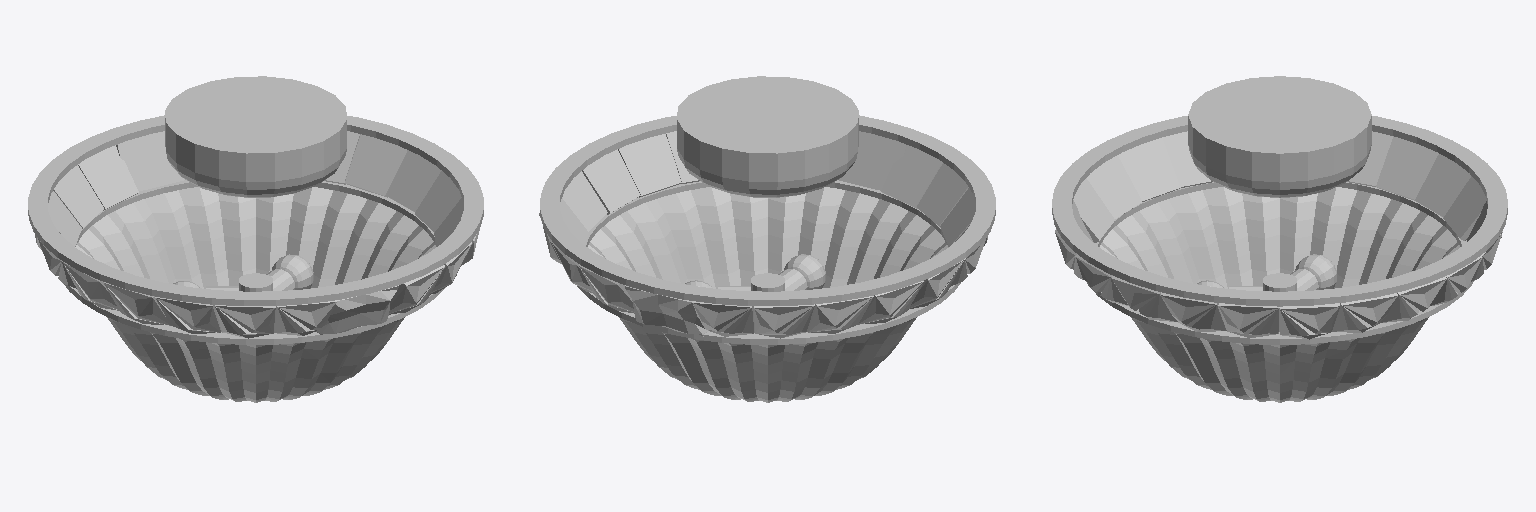
The model's file is lamp_luster.obj.
3 views of the same model, side by side, from view 1: azimuth 30°, elevation 25°; view 2: azimuth 150°, elevation 25°; view 3: azimuth 270°, elevation 25° (orthographic).
Visible parts, largest first — view 1: Loft02, Rectangl22, Circle02, Loft01, Circle01, Rectangl15, Rectangl11, Rectangl17, Rectangle0, Rectangl16, Rectangl10, Rectangl18 (+12 smaller); view 2: Loft01, Rectangl22, Circle02, Loft02, Circle01, Rectangle3, Rectangl11, Rectangle0, Rectangle6, Rectangle4, Rectangl10, Rectangl18 (+11 smaller); view 3: Loft01, Rectangl22, Loft02, Circle02, Circle01, Rectangl21, Rectangle9, Rectangl18, Rectangl10, Rectangl16, Rectangle4, Rectangl15 (+11 smaller).
Part boxes in pixels (x1,y1,x2,y2): Loft02: (75, 187, 418, 360); Rectangl22: (165, 76, 346, 197); Circle02: (28, 115, 483, 305); Loft01: (112, 226, 435, 402); Circle01: (64, 180, 445, 344); Rectangl15: (345, 134, 407, 197); Rectangl11: (116, 131, 184, 190); Rectangl17: (78, 145, 138, 210); Rectangle0: (316, 285, 398, 334); Rectangl16: (386, 150, 441, 211); Rectangl10: (215, 305, 275, 338); Rectangl18: (53, 165, 103, 228); Loft01: (605, 187, 948, 360); Rectangl22: (677, 76, 858, 197); Circle02: (540, 115, 995, 305); Loft02: (588, 226, 911, 402); Circle01: (577, 180, 960, 344); Rectangle3: (618, 134, 681, 197); Rectangl11: (625, 285, 708, 336); Rectangle0: (839, 131, 906, 190); Rectangle6: (881, 145, 942, 208); Rectangle4: (582, 149, 640, 214); Rectangl10: (917, 163, 968, 227); Rectangl18: (754, 304, 814, 338); Loft01: (1100, 187, 1279, 402); Rectangl22: (1188, 76, 1371, 197); Loft02: (1280, 187, 1459, 402); Circle02: (1052, 116, 1507, 306); Circle01: (1086, 182, 1474, 344); Rectangl21: (1376, 136, 1438, 200); Rectangle9: (1118, 138, 1180, 201); Rectangl18: (1415, 154, 1470, 217); Rectangl10: (1087, 155, 1141, 218); Rectangl16: (1279, 303, 1339, 339); Rectangle4: (1218, 303, 1278, 337); Rectangl15: (1332, 293, 1397, 332).
Size of the model in its own units: 13.6 by 9.28 by 13.6.